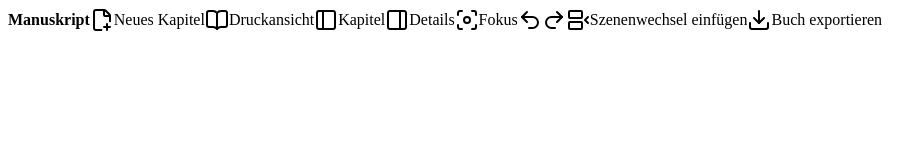
links manuscript export actions and restores focus after selection
expect the 1st icon is shown: met, box [90, 8, 114, 32]
Press ArrowDown in the button with class "ui-toolbar-button" showing "Buch exportieren", box [748, 8, 882, 32]
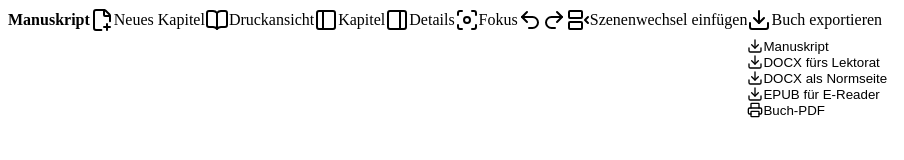
expect the menu item "Manuskript" is shown: met, box [748, 38, 887, 54]
expect the menu item "DOCX fürs Lektorat" is shown: met, box [748, 54, 887, 70]
expect the menu item "DOCX als Normseite" is shown: met, box [748, 70, 887, 86]
Click the menu item "EPUB für E-Reader".
click(817, 94)  # box [748, 86, 887, 102]
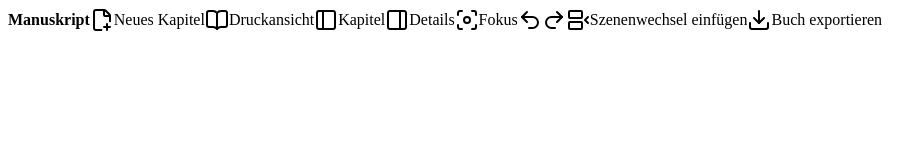
expect the menu is gone: met
Click the button with class "ui-toolbar-button" showing "Buch exportieren".
click(815, 20)  # box [748, 8, 882, 32]
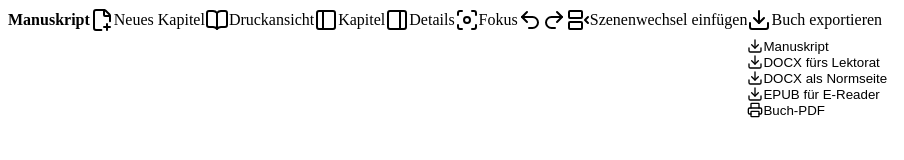
expect the 2nd text with class "ui-menu__label" reads "Manuskript": met, box [764, 38, 829, 54]
Click the menu item "Manuskript".
click(817, 46)  # box [748, 38, 887, 54]
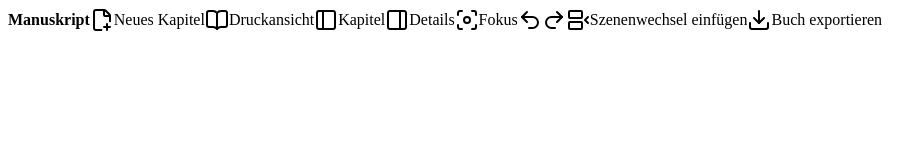
expect the menu is gone: met
